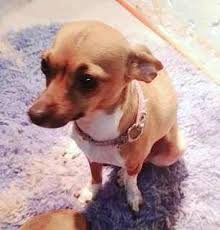chihuahua: (17, 13, 190, 226)
